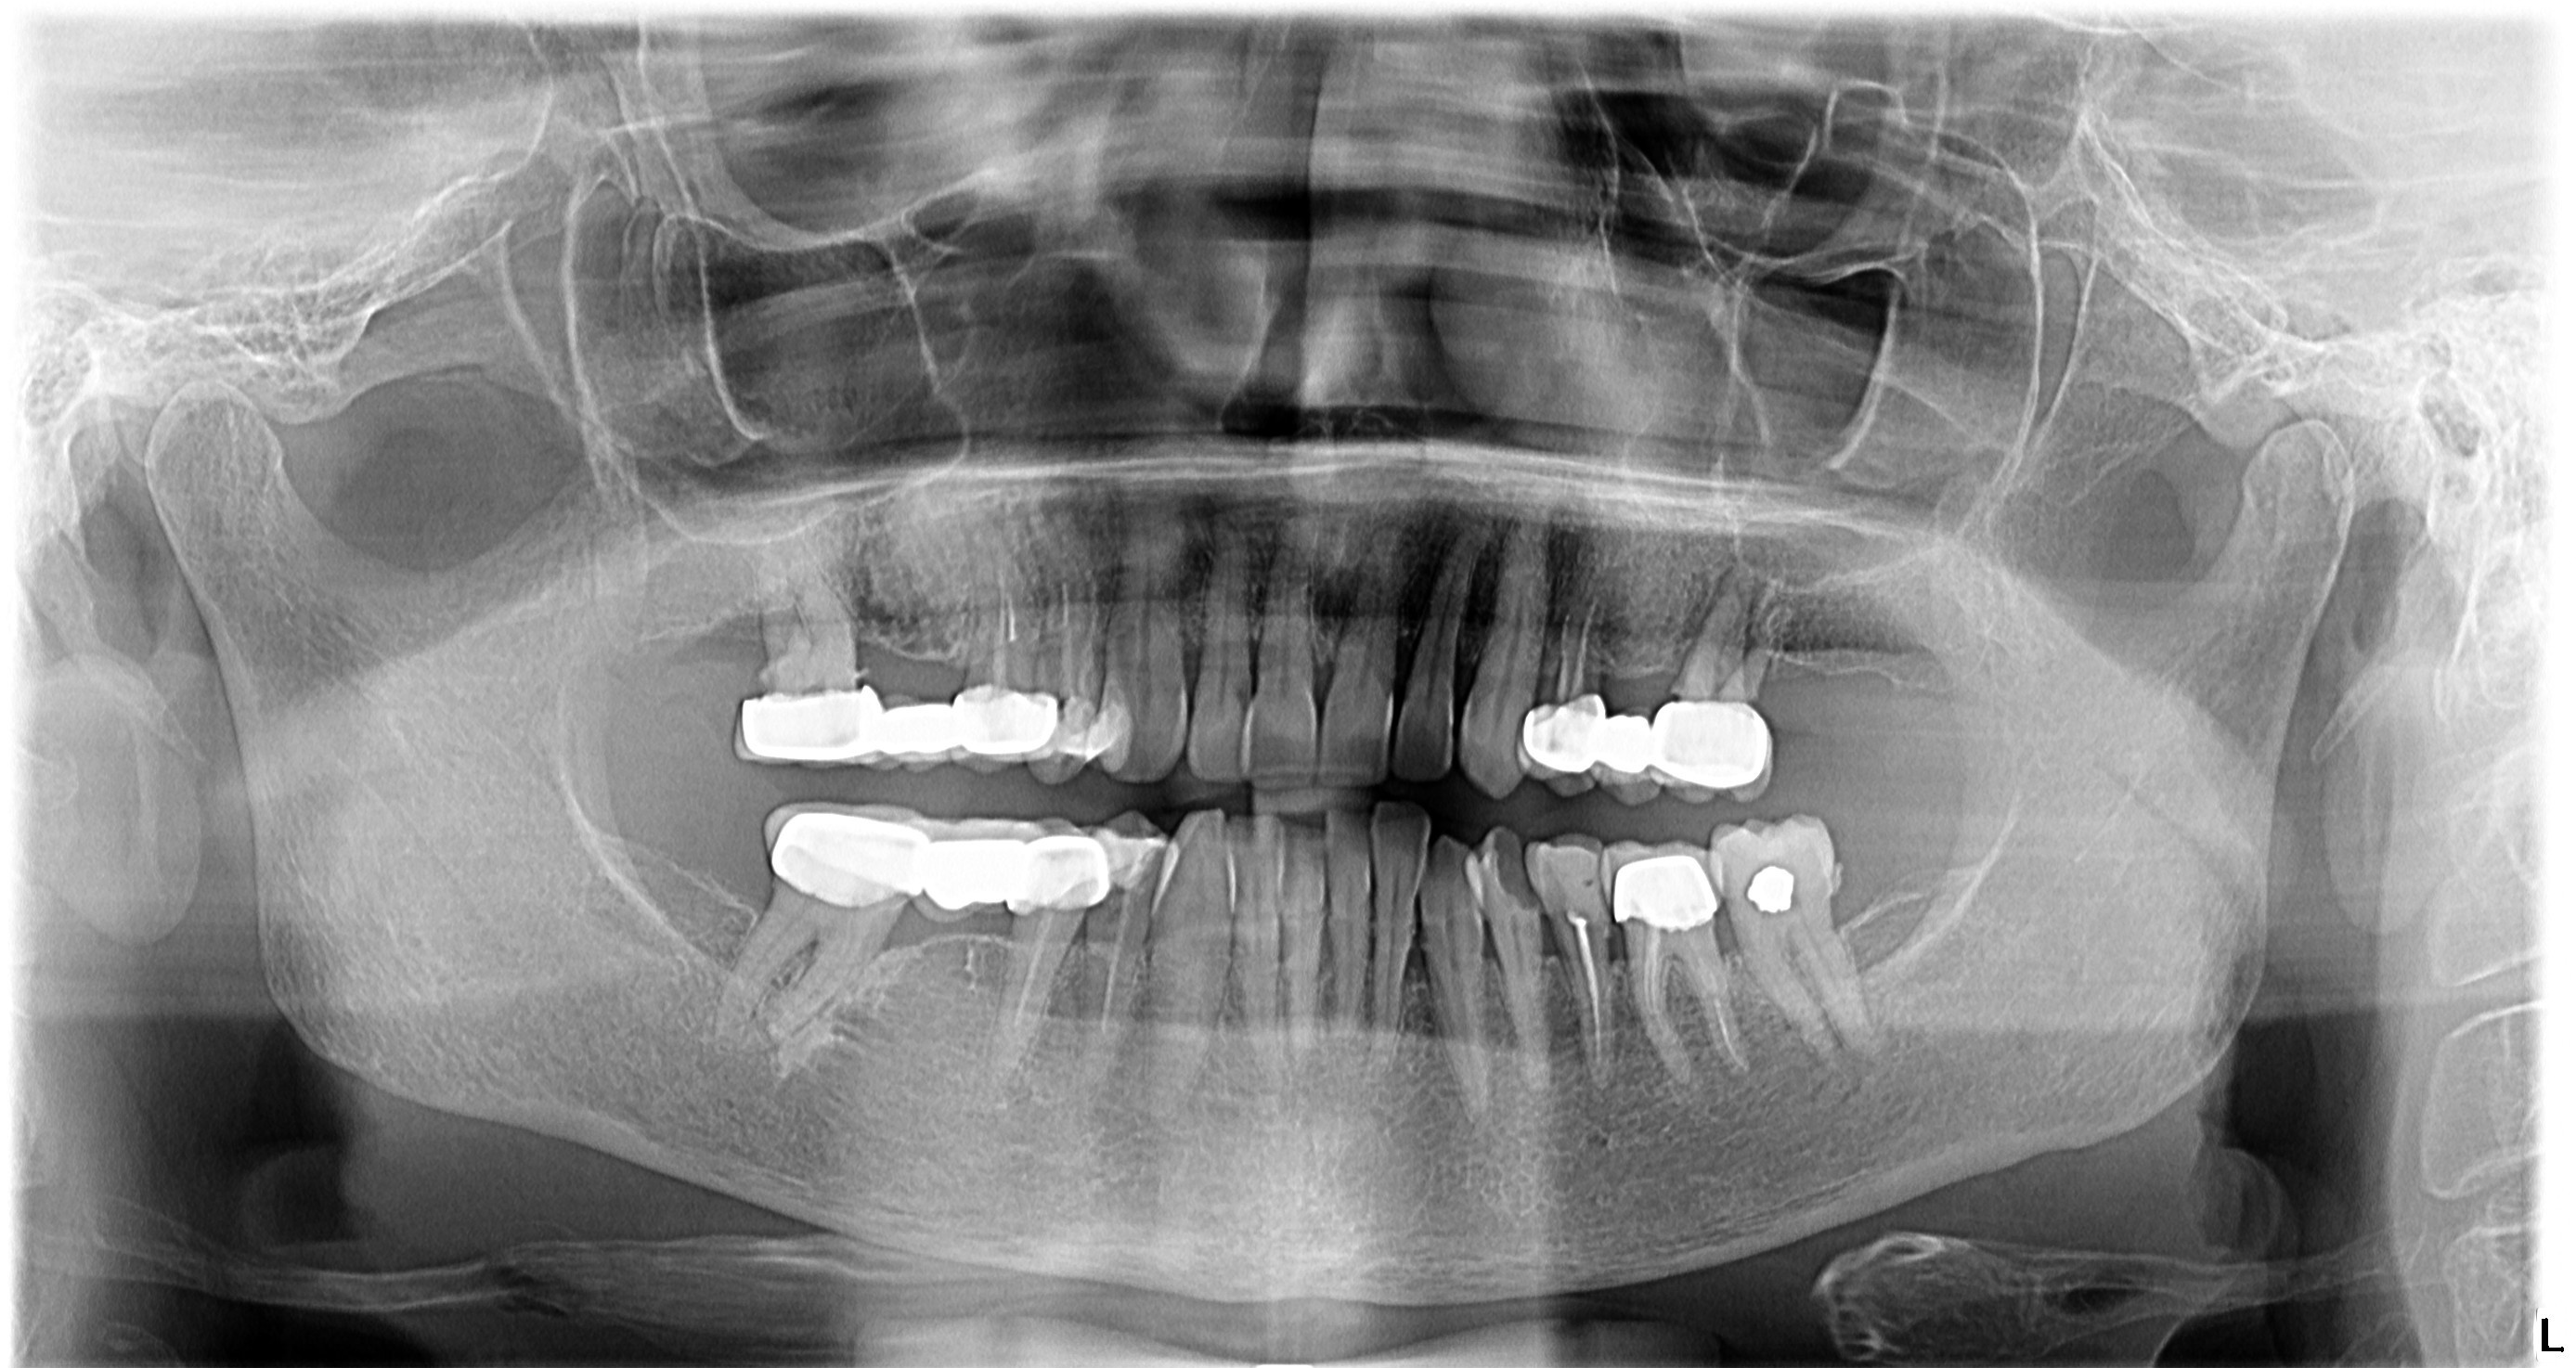BON: (847, 608, 985, 705), (862, 888, 1021, 971), (1371, 588, 1443, 707), (707, 596, 802, 681), (1583, 651, 1685, 729), (1820, 854, 1889, 966), (1286, 603, 1354, 716), (1395, 894, 1453, 1019), (1435, 622, 1492, 726), (1162, 606, 1218, 707)
CAR: (1479, 830, 1557, 917)
END: (1630, 939, 1746, 1065), (1034, 571, 1123, 710), (964, 526, 1039, 690), (1535, 579, 1619, 710), (1549, 913, 1617, 1051), (1085, 913, 1147, 1056), (995, 913, 1056, 1048)
OBT: (1055, 690, 1140, 779), (1101, 825, 1181, 910), (1738, 855, 1809, 930)
PRR: (739, 806, 1116, 913), (721, 681, 1067, 782), (1515, 688, 1774, 799), (1607, 835, 1731, 940)
